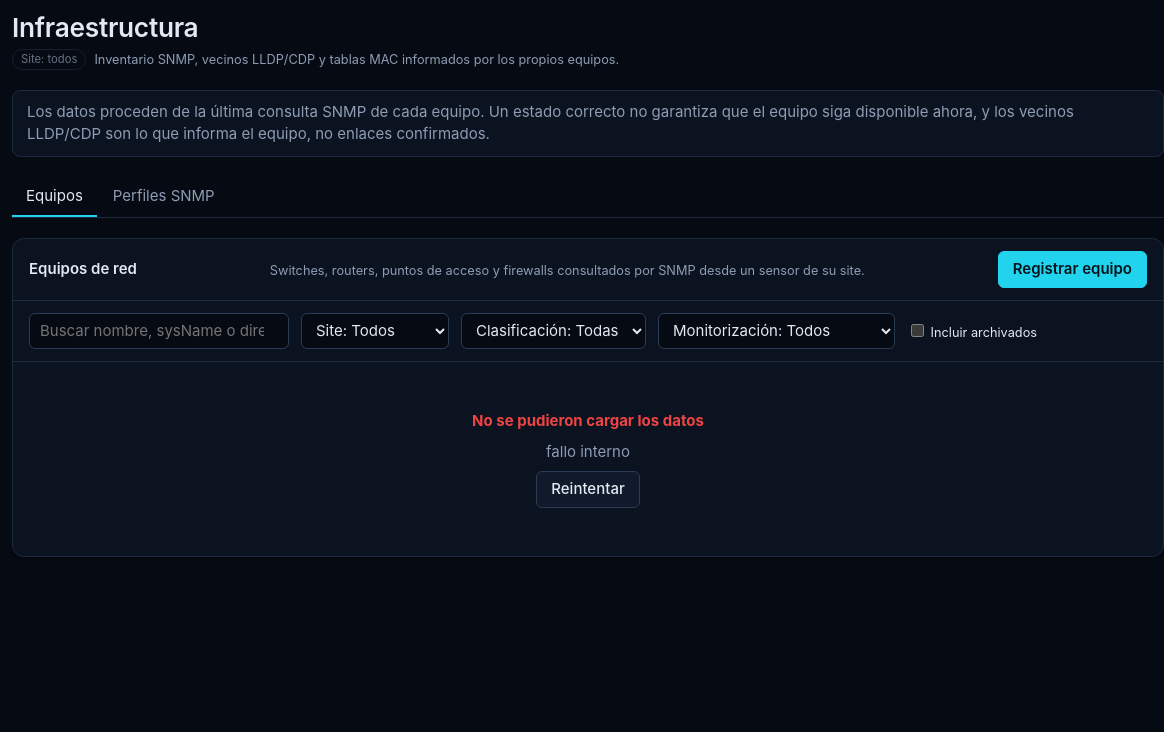
InfrastructurePage: equipos › muestra error con reintento y estado vacío
Expected: the message shows "fallo interno", [546,442,630,461]
Click the button "Reintentar". click: (588, 489)
box: [536,471,640,508]
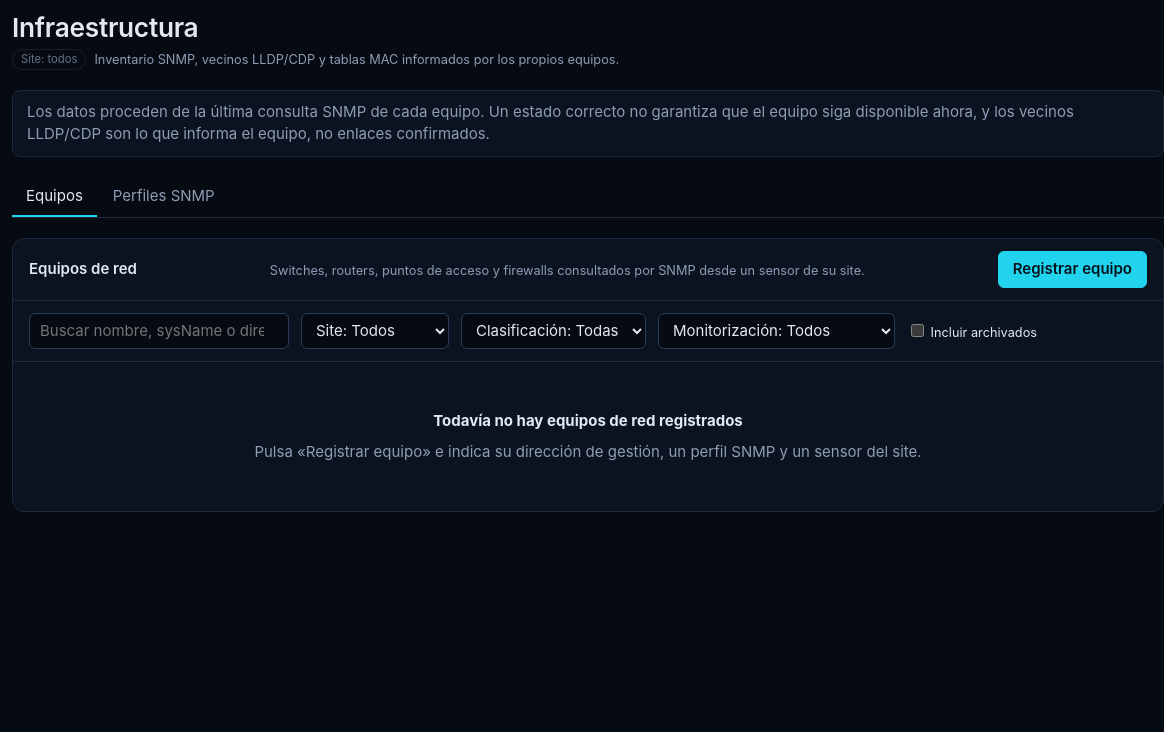
Expected: the text "Todavía no hay equipos de red registrados" is shown, [433,410,743,433]
